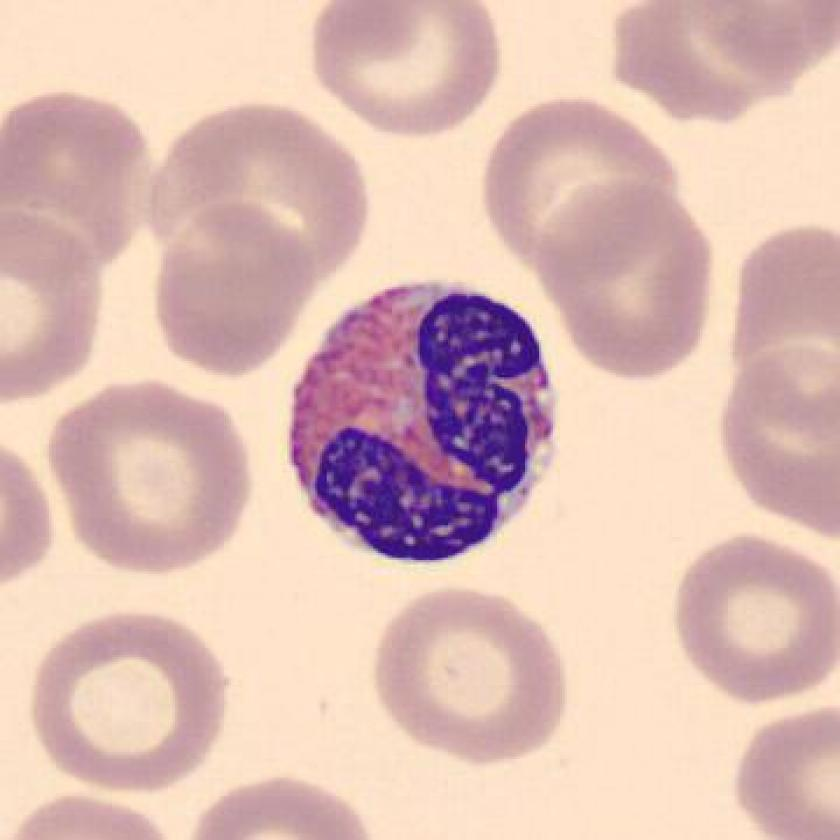eosinophil: (279, 265, 573, 586)
